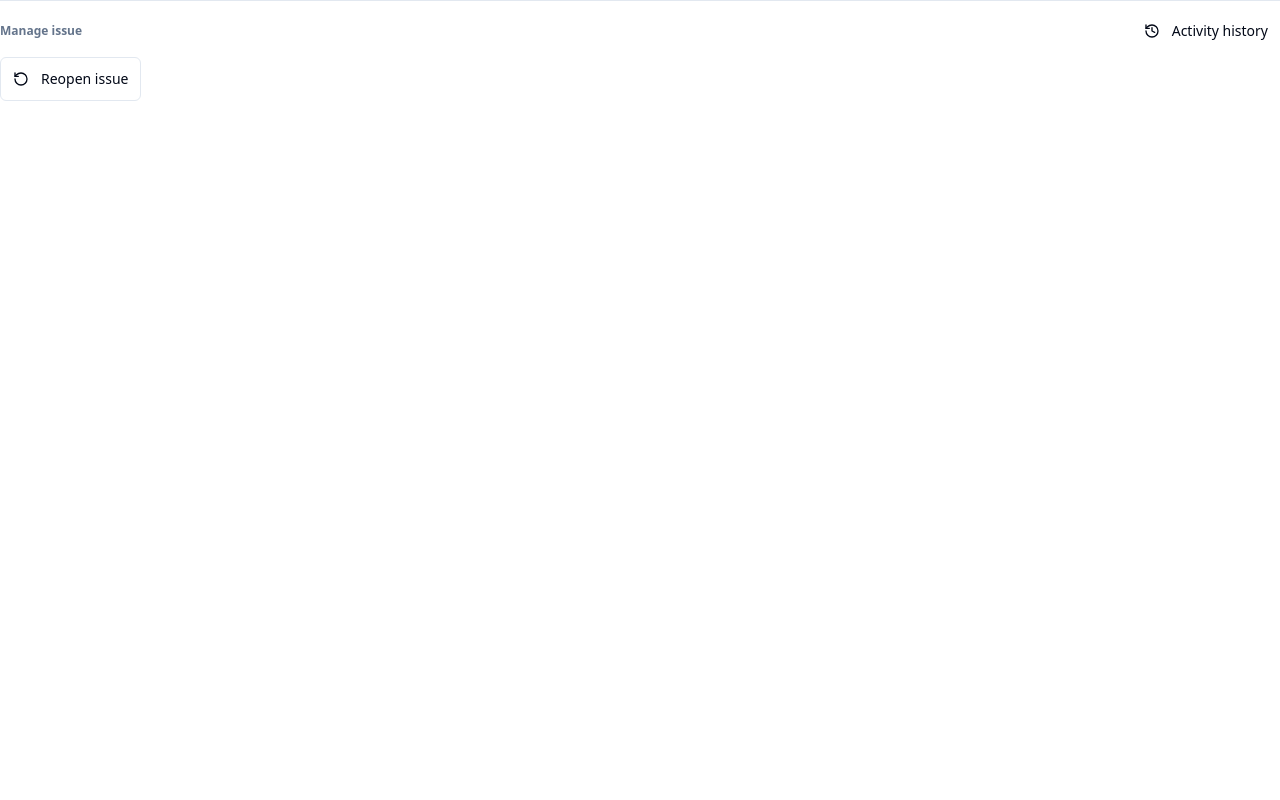
Test case: maintenance manager workflow › requires an explanation when reopening a completed ticket
Click the button "Reopen issue" at (71, 79), box [0,57,142,101]
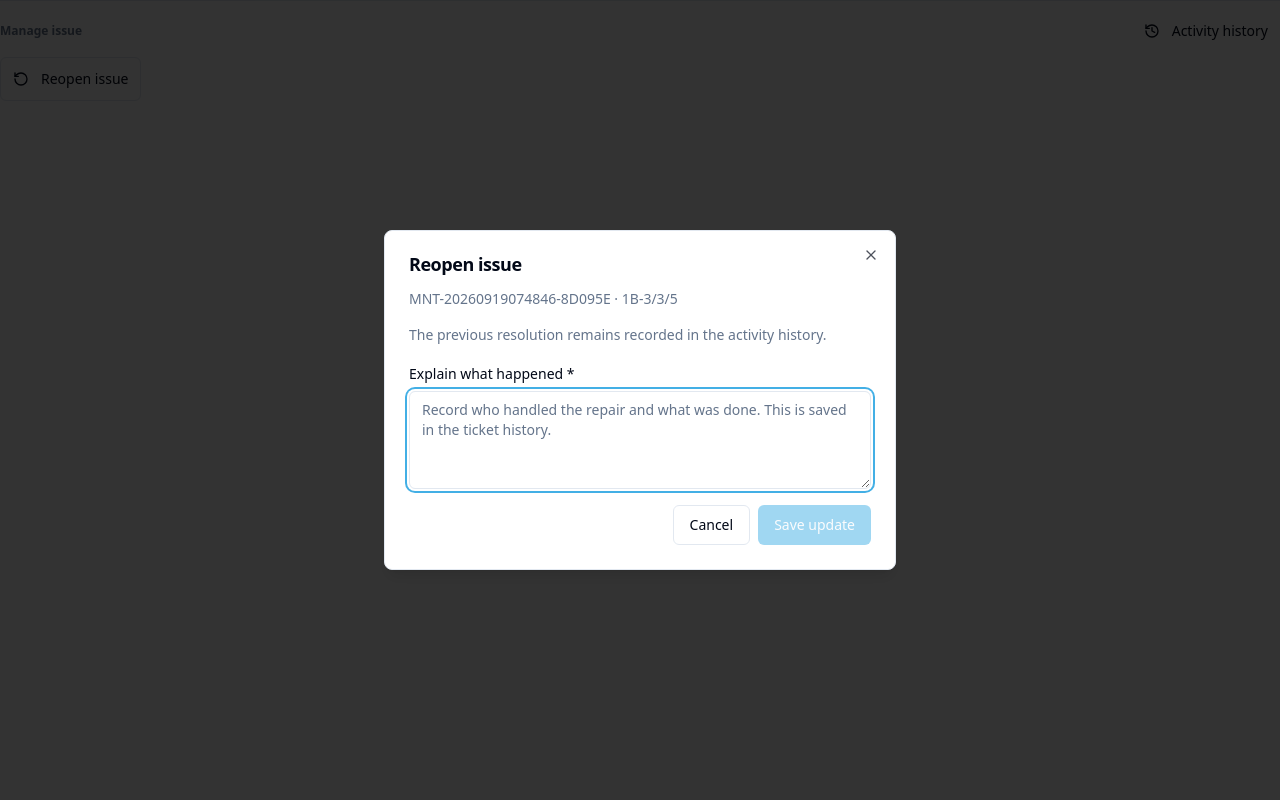
Check: the button "Save update" is disabled, box [758,505,871,545]
Replace the text in the text box labelled "Explain what happened *" with "Problem returned" at (640, 440), box [409,391,871,489]
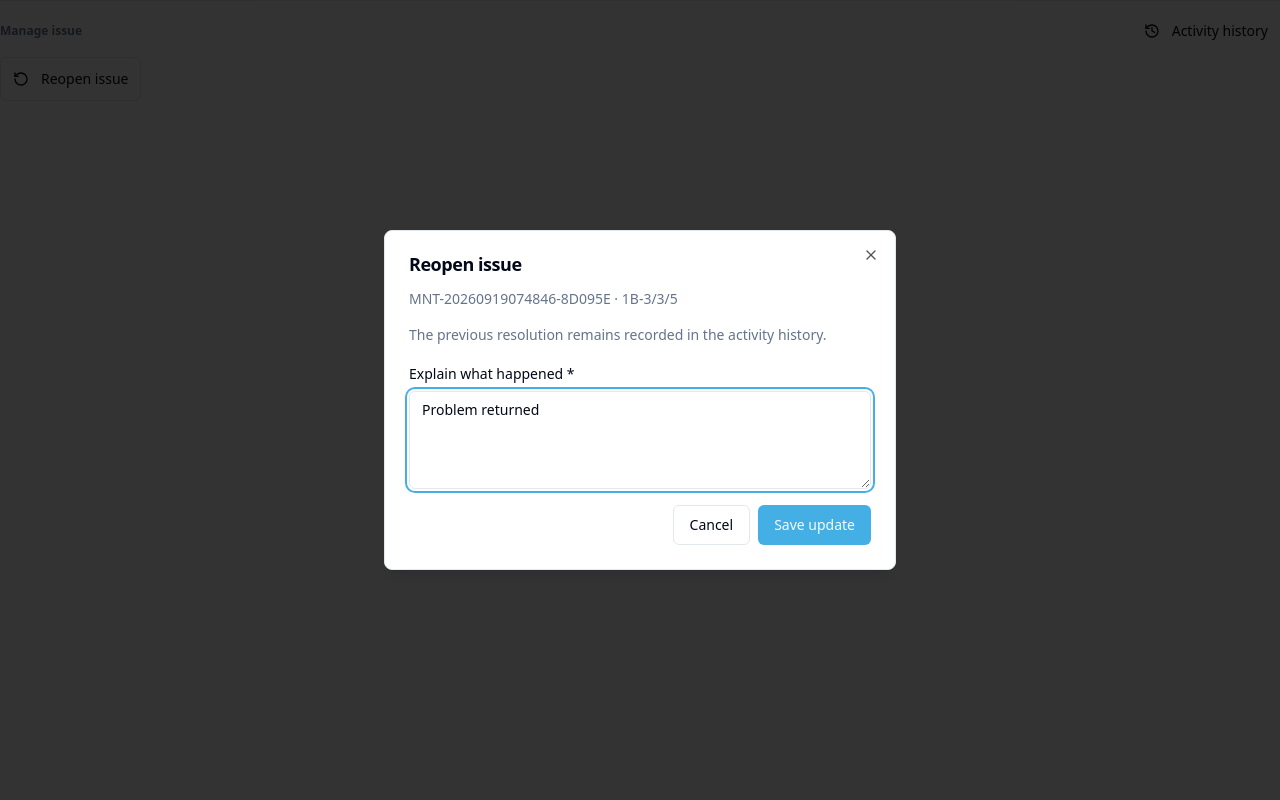
Check: the button "Save update" is enabled, box [758,505,871,545]
